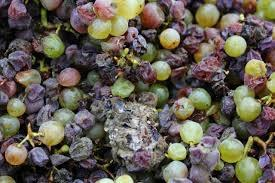Grape Rotten: (1, 1, 274, 182)
